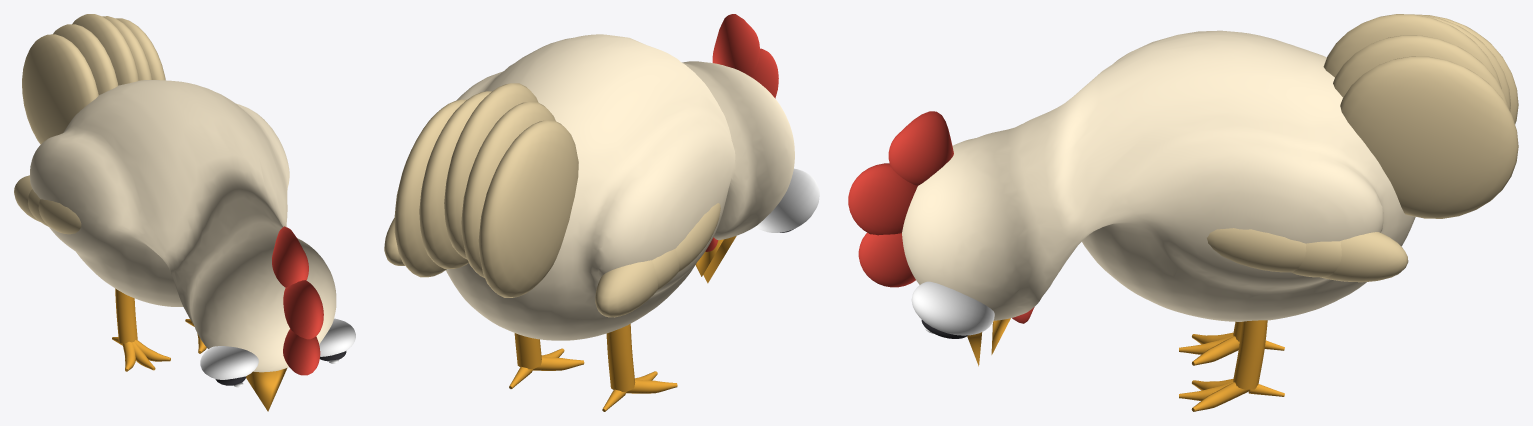
Rendered from chicken.glb.
3 renders of one model, left to right at view 1: azimuth 30°, elevation 25°; view 2: azimuth 150°, elevation 25°; view 3: azimuth 270°, elevation 25°, orthographic. The views are drawn at different scales.
Visible parts, largest first — view 1: HenBody, LegL; view 2: HenBody, LegL, LegR; view 3: HenBody, LegR, LegL.
Part boxes in pixels (<box>): HenBody: <box>14,14,355,411</box>; LegL: <box>112,288,170,371</box>; HenBody: <box>384,14,819,340</box>; LegL: <box>602,324,677,411</box>; LegR: <box>509,333,584,388</box>; HenBody: <box>848,14,1518,366</box>; LegR: <box>1179,320,1284,411</box>; LegL: <box>1179,321,1284,365</box>.
Size of the model in its own units: 0.666 by 0.8435 by 1.41.
